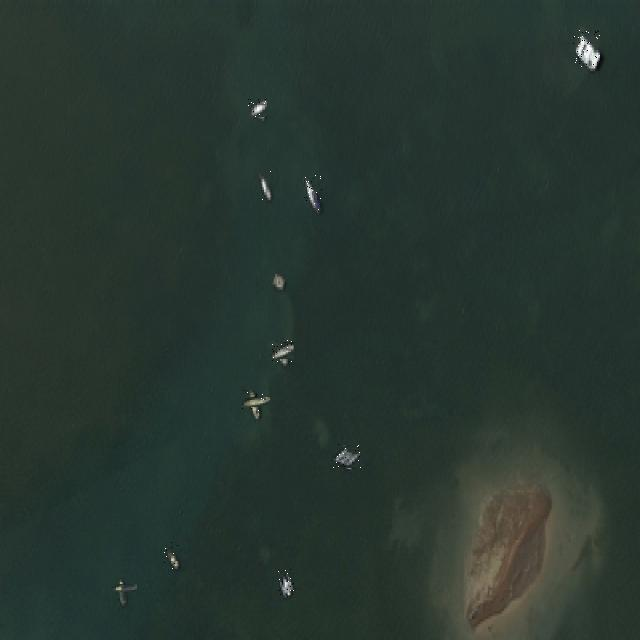boat: (573, 29, 600, 68), (333, 443, 361, 471), (304, 174, 322, 211), (242, 390, 265, 413), (270, 339, 292, 362), (277, 569, 294, 595), (111, 577, 132, 598), (163, 542, 179, 569), (258, 171, 272, 200), (248, 98, 266, 118), (270, 268, 286, 290)
